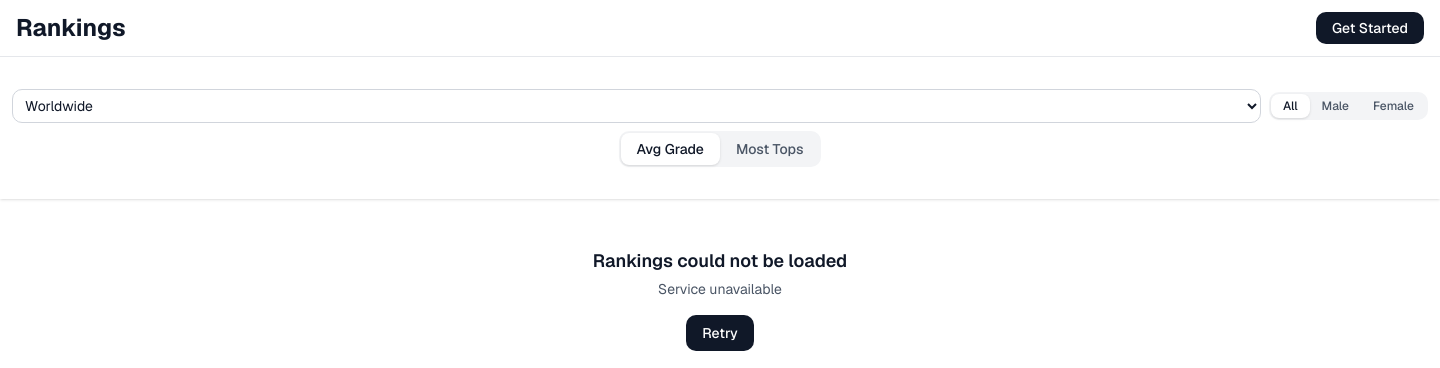
Test case: RankingsPage › retries after a failed request
Expected: the message shows "Service unavailable", [658,280,782,298]
What coordinates should you click on to do the following:
click the button "Retry"
I would click on:
 (720, 333)
Its box is [686,315,754,351].
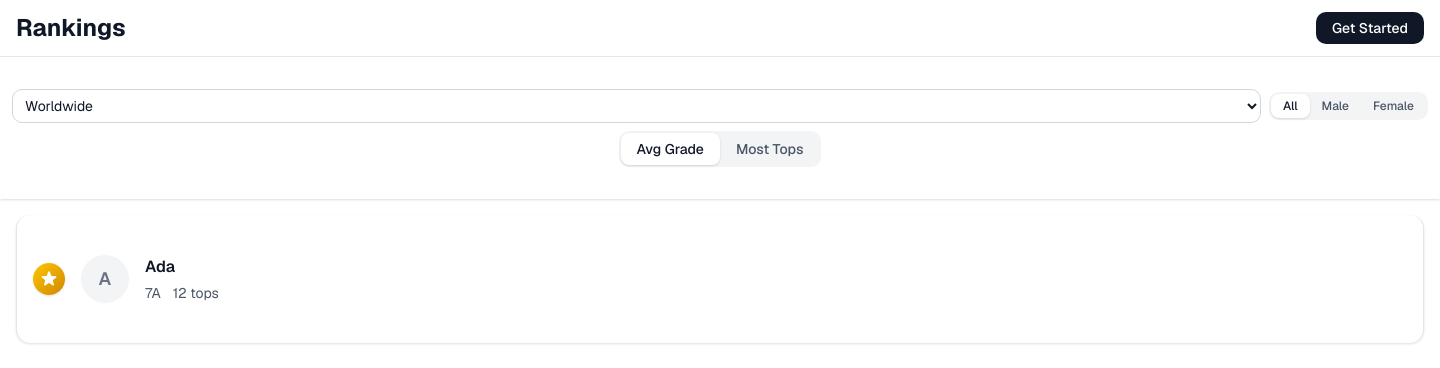
Result: the link "Ada" is shown at [145,256,175,277]
